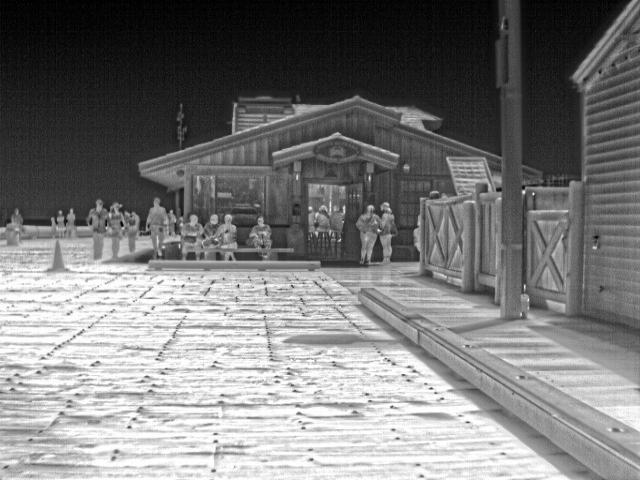person: (145, 194, 169, 257), (374, 202, 396, 266), (358, 203, 379, 267), (104, 199, 127, 257), (86, 198, 108, 256), (201, 212, 221, 260), (216, 211, 239, 250), (246, 216, 274, 248), (178, 214, 204, 246), (122, 212, 141, 253), (64, 206, 79, 238), (315, 204, 332, 230), (10, 207, 25, 234), (330, 204, 347, 227), (53, 207, 65, 237), (304, 206, 316, 232)
